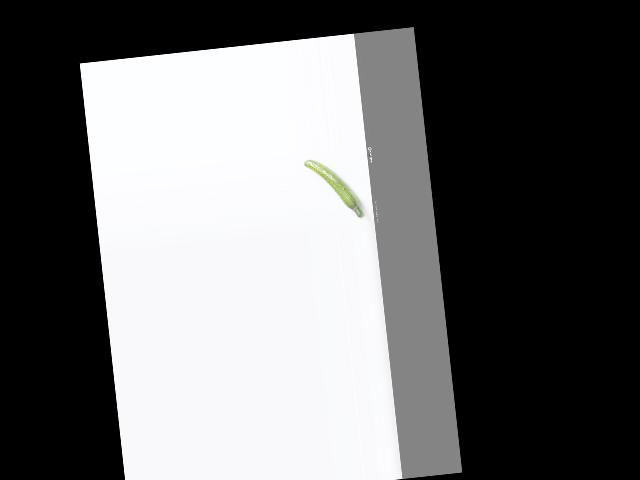cucumber: (304, 155, 364, 224)
